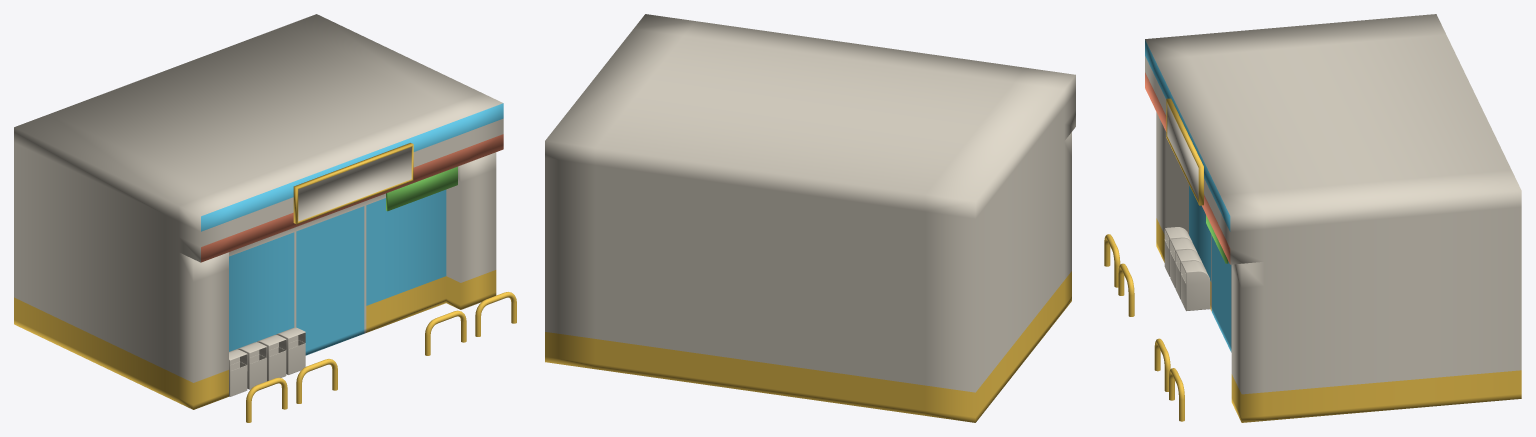
File: 034_コンビニ.glb
The picture shows the model from 3 angles, left to right: view 1: azimuth 30°, elevation 25°; view 2: azimuth 150°, elevation 25°; view 3: azimuth 270°, elevation 25°; orthographic projection. The views are drawn at different scales.
Parts seen in each view (by area): view 1: 立方体009, 立方体009_5, 立方体009_1, 立方体009_2, 立方体009_7, 立方体009_3, 立方体009_6, 立方体009_4; view 2: 立方体009, 立方体009_1; view 3: 立方体009, 立方体009_1, 立方体009_5, 立方体009_7, 立方体009_6, 立方体009_2, 立方体009_3.
Part boxes in pixels (<box>): 立方体009: <box>14,14,503,382</box>; 立方体009_5: <box>229,189,446,355</box>; 立方体009_1: <box>14,143,496,409</box>; 立方体009_2: <box>201,103,503,231</box>; 立方体009_7: <box>229,327,305,396</box>; 立方体009_3: <box>201,134,503,262</box>; 立方体009_6: <box>246,292,516,422</box>; 立方体009_4: <box>386,166,457,211</box>; 立方体009: <box>545,14,1075,392</box>; 立方体009_1: <box>545,271,1071,422</box>; 立方体009: <box>1145,14,1521,394</box>; 立方体009_1: <box>1156,98,1521,422</box>; 立方体009_5: <box>1189,185,1231,351</box>; 立方体009_7: <box>1164,227,1210,311</box>; 立方体009_6: <box>1104,234,1184,421</box>; 立方体009_2: <box>1145,40,1230,231</box>; 立方体009_3: <box>1145,72,1230,264</box>.
Bounding box in the file's own units: 5.83 × 2.84 × 5.09.
